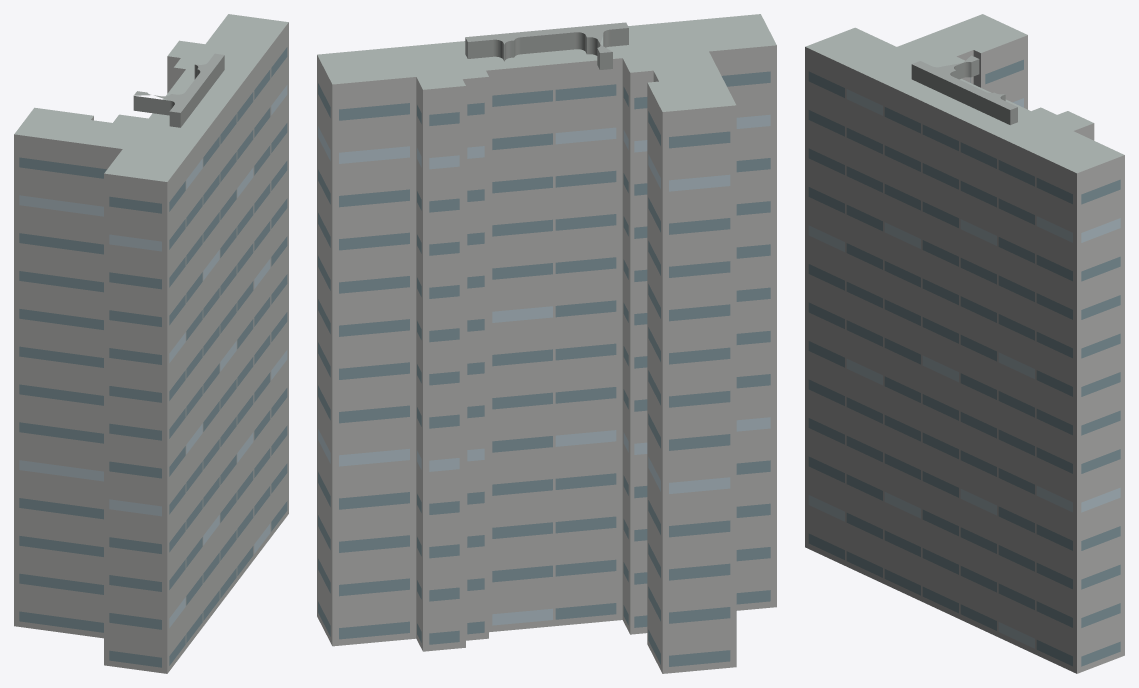
Rendered from fallback-gaepo-xi-presidence-429.glb.
3 views of the same model, side by side, from view 1: azimuth 30°, elevation 25°; view 2: azimuth 150°, elevation 25°; view 3: azimuth 270°, elevation 25° (orthographic). The views are drawn at different scales.
Parts seen in each view (by area): view 1: fallback-gaepo-xi-presidence-429; view 2: fallback-gaepo-xi-presidence-429; view 3: fallback-gaepo-xi-presidence-429.
Boxes of the visible parts, x1,y1,x2,y2 form: fallback-gaepo-xi-presidence-429: (14,14,288,673); fallback-gaepo-xi-presidence-429: (317,14,776,673); fallback-gaepo-xi-presidence-429: (805,14,1124,673).
Size of the model in its own units: 54.16 by 81.7 by 45.9.
